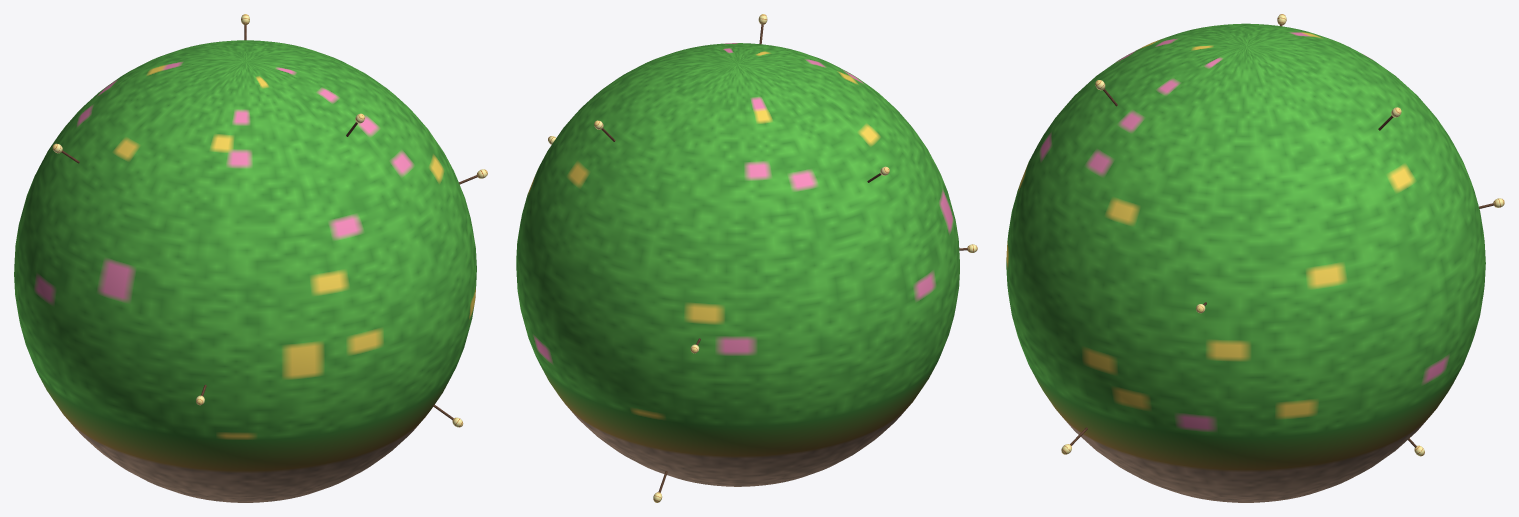
Rendered from LanternGardenPlanet.bdl.glb.
3 views of the same model, side by side, from view 1: azimuth 30°, elevation 25°; view 2: azimuth 150°, elevation 25°; view 3: azimuth 270°, elevation 25° (orthographic). The views are drawn at different scales.
Visible parts, largest first — view 1: LanternGardenPlanet; view 2: LanternGardenPlanet; view 3: LanternGardenPlanet.
Part boxes in pixels (box(x1,y1,x2,y2)): LanternGardenPlanet: box(14, 14, 487, 502); LanternGardenPlanet: box(516, 14, 977, 502); LanternGardenPlanet: box(1006, 14, 1504, 502).
Bounding box in the file's own units: 31.44 × 30 × 31.18.
3 materials, 3 textured.
